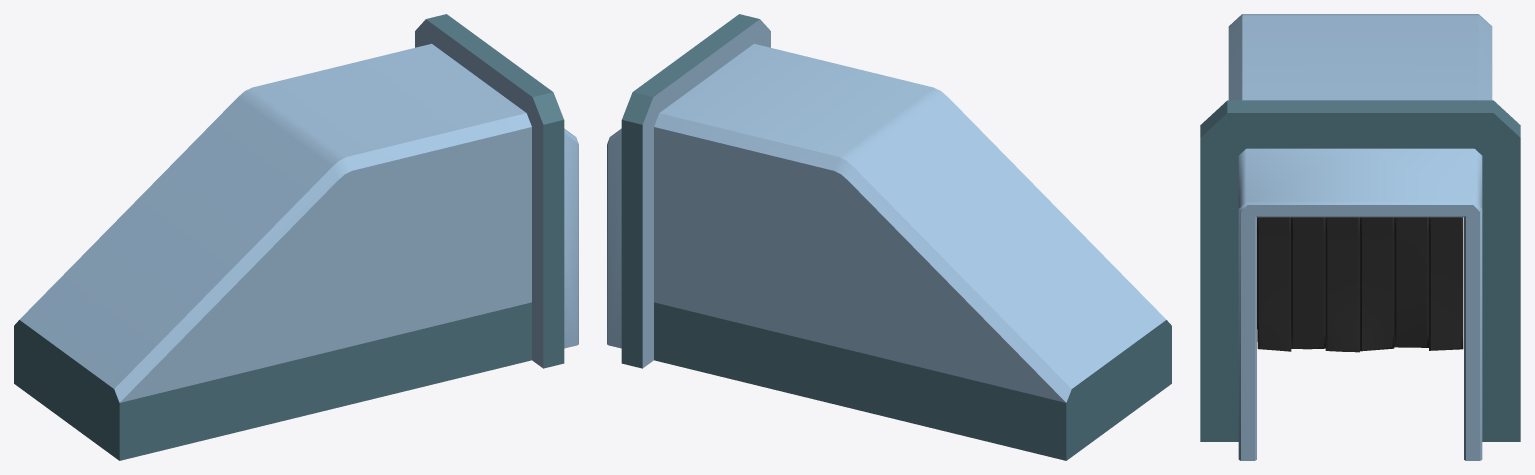
File: 12_3_BaggageClaimBand_AIRPORT_0.obj
3 renders of one model, left to right at view 1: azimuth 30°, elevation 25°; view 2: azimuth 150°, elevation 25°; view 3: azimuth 270°, elevation 25°, orthographic. The views are drawn at different scales.
Parts seen in each view (by area): view 1: 12.3.BaggageClaimBand_AIRPORT_0; view 2: 12.3.BaggageClaimBand_AIRPORT_0; view 3: 12.3.BaggageClaimBand_AIRPORT_0.
Part boxes in pixels (left/top/right/bottom): 12.3.BaggageClaimBand_AIRPORT_0: left=14, top=14, right=578, bottom=460; 12.3.BaggageClaimBand_AIRPORT_0: left=607, top=14, right=1171, bottom=460; 12.3.BaggageClaimBand_AIRPORT_0: left=1200, top=14, right=1520, bottom=460.
Size of the model in its own units: 5.55 by 3.01 by 2.66.
Materials: 1 (1 with a texture image).
